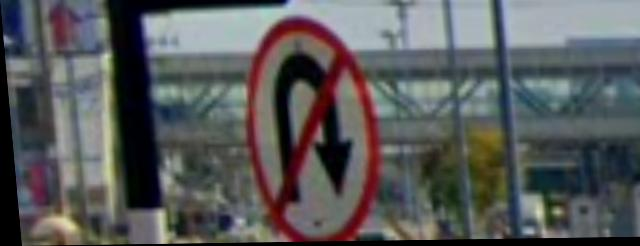not_u_turn_right: (233, 13, 382, 243)
